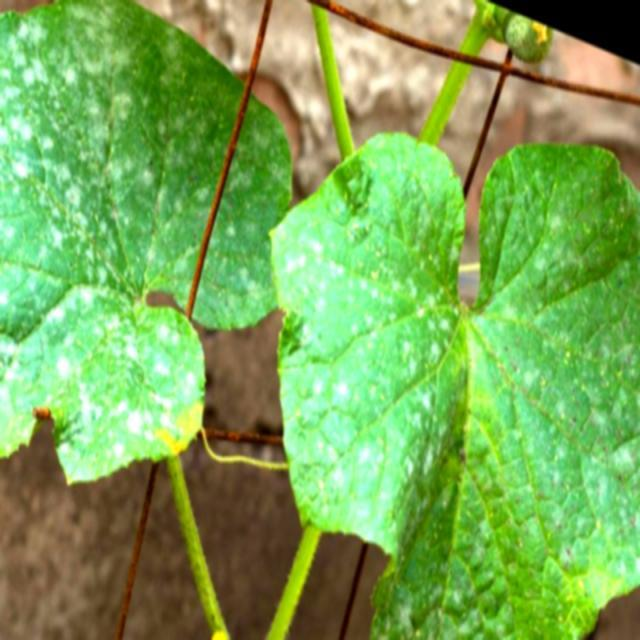Leaf_Mold: (266, 139, 640, 640), (0, 4, 292, 494), (509, 203, 640, 608), (1, 93, 223, 294)
